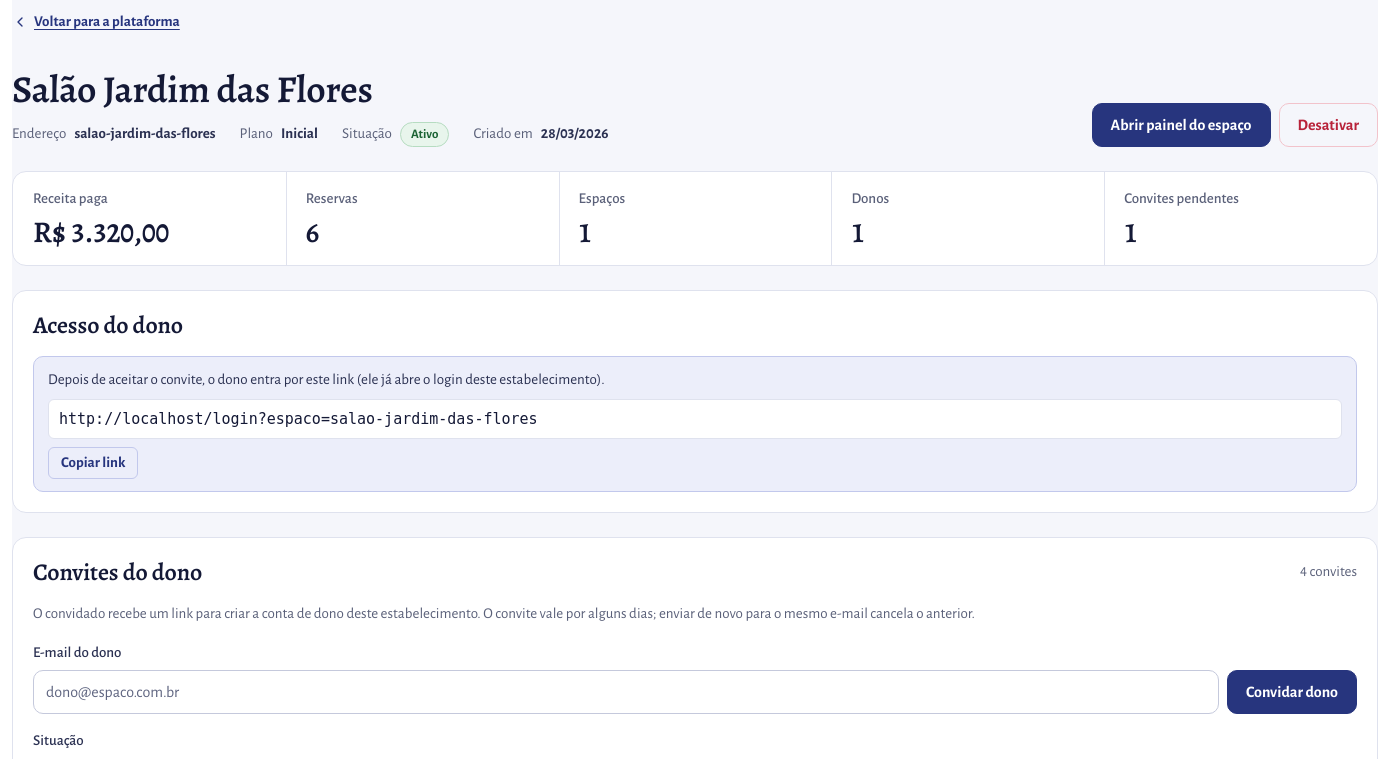
Scenario: Plataforma - detalhe e convites › explains when the invited e-mail already has an account (409)
Type "dono@jardim.com" into the field labelled "E-mail do dono".
click(626, 692); type("dono@jardim.com")  # box [33,670,1219,714]
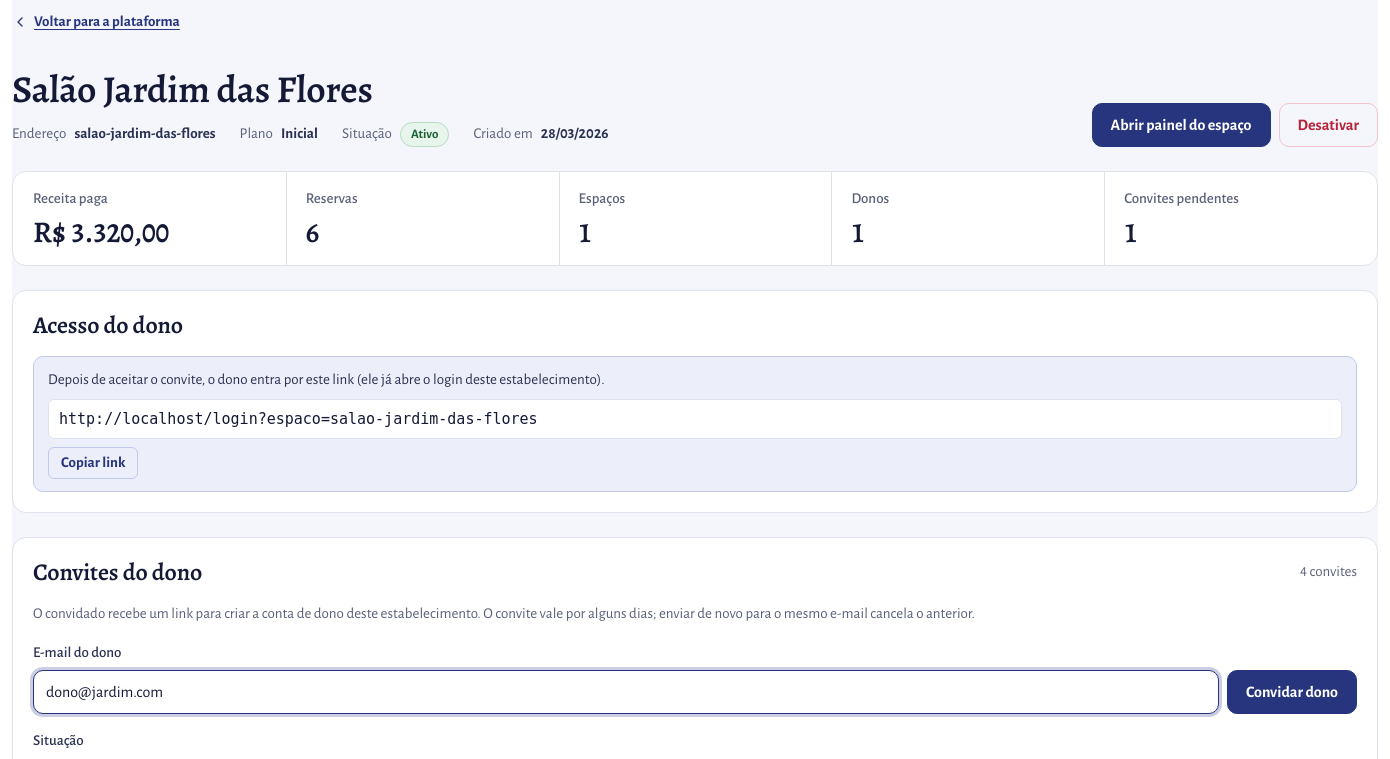
Click the button "Convidar dono".
click(1292, 692)  # box [1227,670,1357,714]
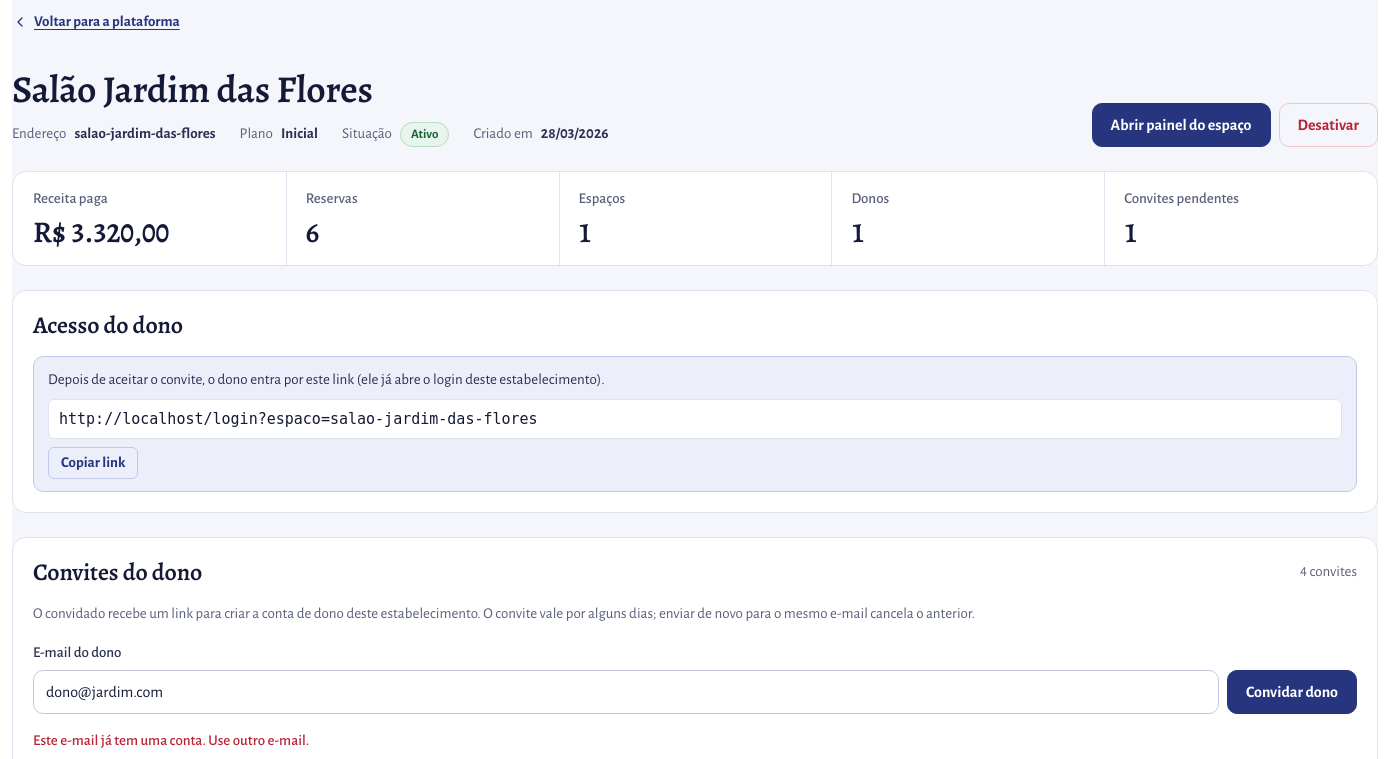
Expected: the text "Este e-mail já tem uma conta. Use outro e-mail." is shown, [33,733,309,748]
